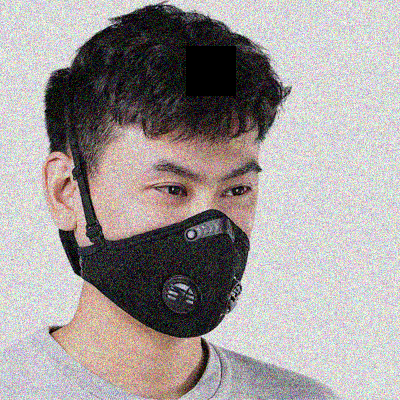with_mask: (75, 155, 262, 339)
